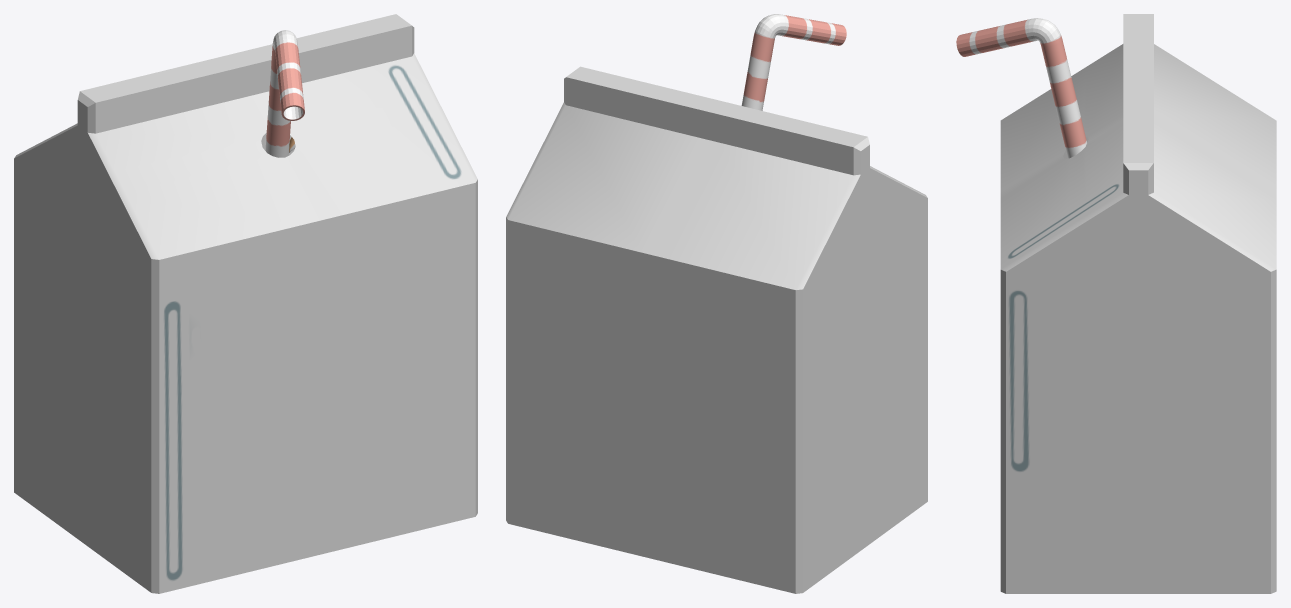
3 views of the same model, side by side, from view 1: azimuth 30°, elevation 25°; view 2: azimuth 150°, elevation 25°; view 3: azimuth 270°, elevation 25° (orthographic). The views are drawn at different scales.
Visible parts, largest first — view 1: Cajita, Planetas_estrellas_Extras_0; view 2: Cajita, Planetas_estrellas_Extras_0; view 3: Cajita, Planetas_estrellas_Extras_0.
Part boxes in pixels (left/top/right/bottom): Cajita: left=14, top=14, right=477, bottom=593; Planetas_estrellas_Extras_0: left=265, top=30, right=304, bottom=157; Cajita: left=506, top=66, right=927, bottom=593; Planetas_estrellas_Extras_0: left=741, top=14, right=846, bottom=110; Cajita: left=1000, top=14, right=1276, bottom=593; Planetas_estrellas_Extras_0: left=956, top=18, right=1086, bottom=158.
Size of the model in its own units: 64.54 by 96.46 by 56.81.
Materials: 5 (5 with a texture image).
